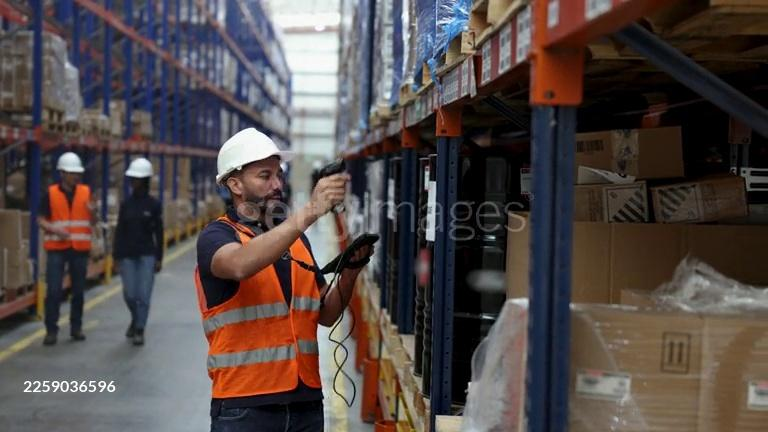helmet: (216, 127, 292, 183), (124, 156, 153, 177), (57, 152, 85, 173)
person: (193, 128, 378, 432), (37, 151, 101, 346), (109, 158, 168, 344)
